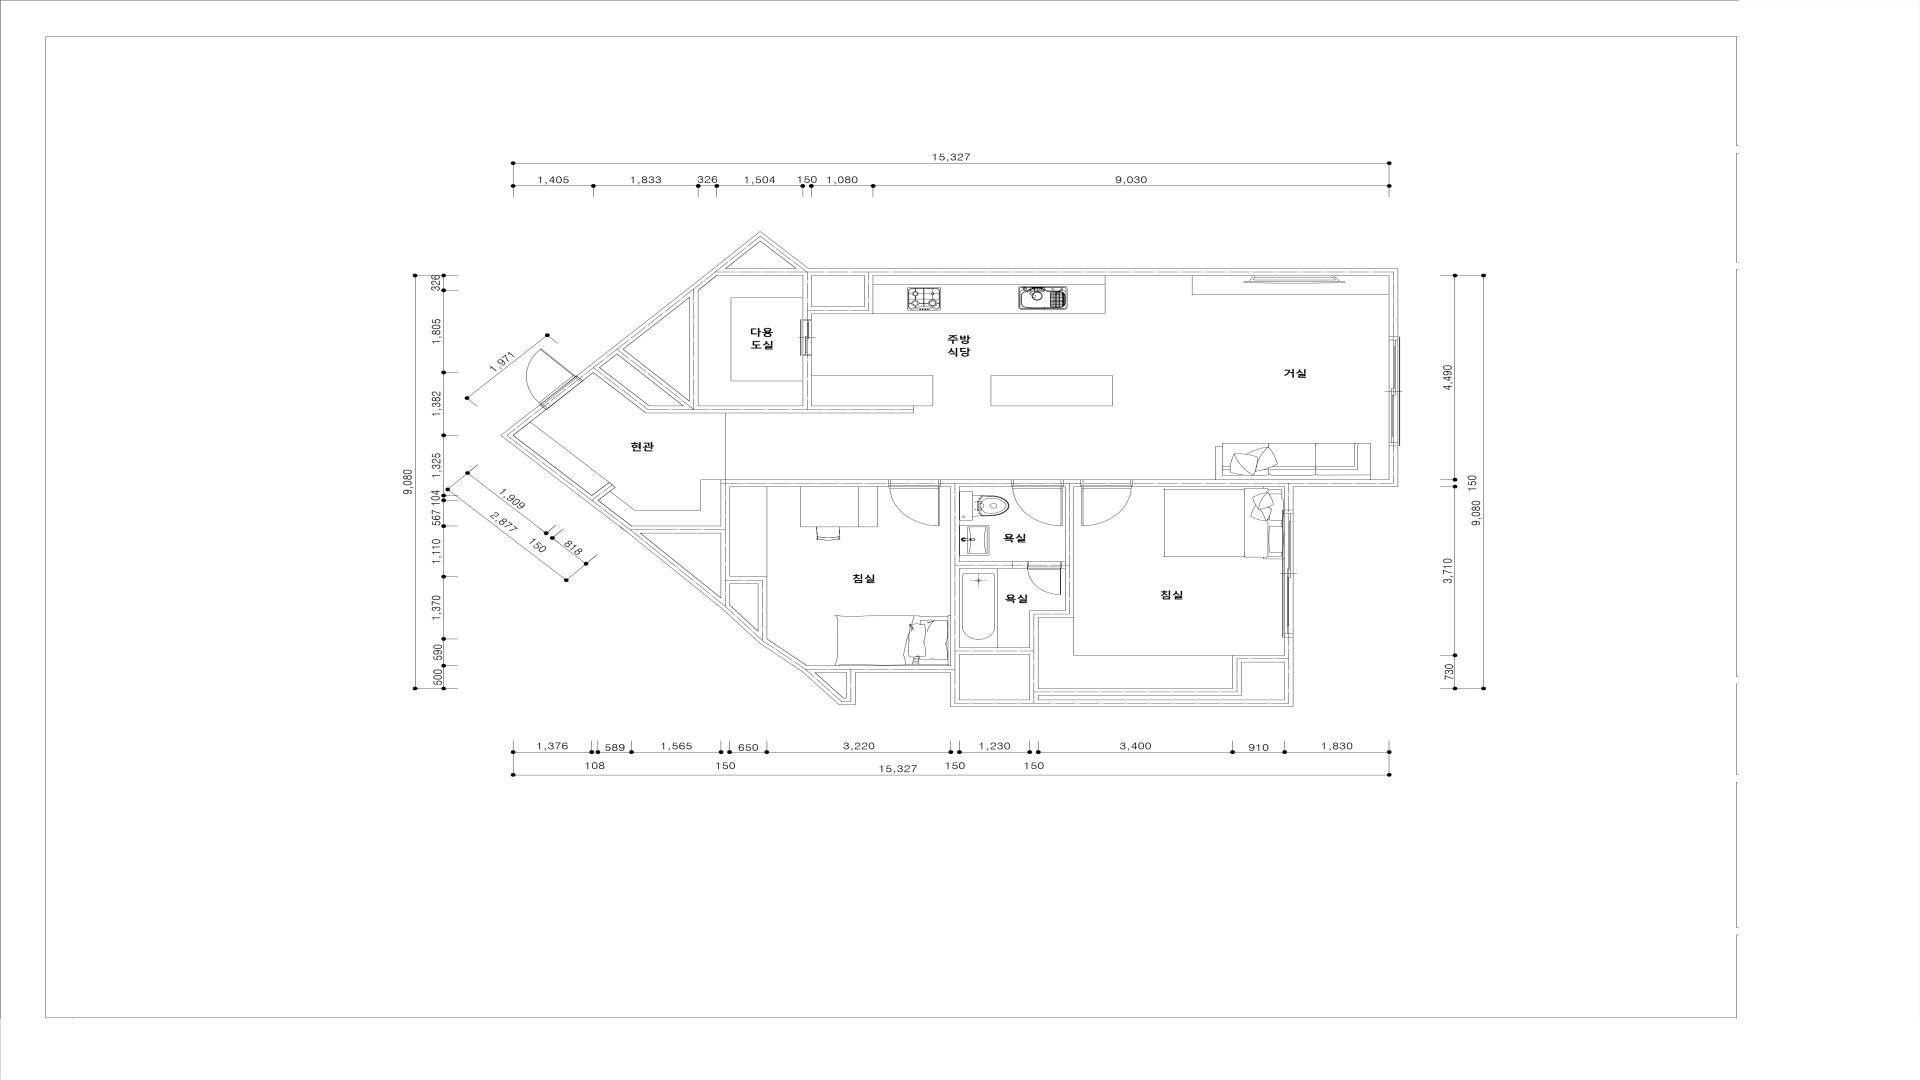door: (508, 348, 583, 410), (887, 480, 940, 526), (1011, 480, 1063, 526), (1080, 480, 1131, 526), (1027, 562, 1062, 595), (800, 319, 812, 356)
wall: (576, 236, 761, 381), (506, 435, 632, 526), (618, 526, 721, 609), (717, 269, 1389, 276), (617, 349, 695, 406), (593, 368, 649, 413), (959, 700, 1294, 707), (754, 231, 808, 269), (758, 633, 807, 671), (646, 406, 914, 413), (721, 597, 758, 642), (802, 666, 843, 705), (1038, 688, 1241, 696), (501, 405, 546, 440), (951, 487, 959, 666), (720, 480, 731, 605), (1064, 487, 1073, 617), (731, 480, 889, 487), (1131, 480, 1284, 487), (690, 290, 698, 406), (1029, 617, 1038, 700), (856, 666, 960, 673), (1294, 480, 1398, 487), (1389, 269, 1398, 336), (632, 526, 720, 533), (758, 576, 767, 638), (1284, 638, 1294, 700), (940, 480, 1011, 487), (959, 647, 1029, 654), (592, 483, 616, 501), (803, 276, 812, 319), (812, 307, 873, 314), (803, 356, 811, 406), (959, 562, 1013, 568), (951, 673, 960, 707), (1389, 446, 1398, 480), (864, 276, 873, 307), (847, 666, 856, 698), (1241, 655, 1284, 662), (1284, 480, 1294, 510), (1233, 655, 1241, 688), (807, 666, 847, 673), (1030, 611, 1065, 617), (731, 576, 758, 584), (839, 698, 856, 705), (1063, 480, 1081, 487), (1011, 562, 1027, 568), (1062, 562, 1065, 568)
window: (1282, 510, 1294, 638), (1389, 336, 1400, 446)
